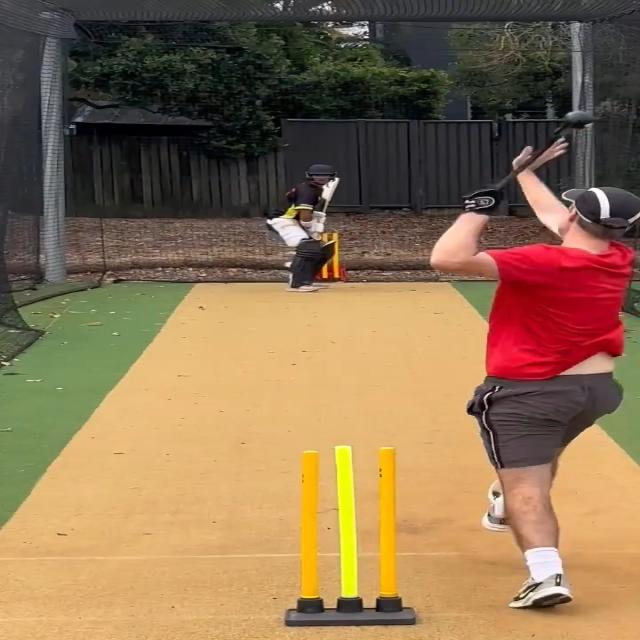stump: (284, 448, 416, 628)
